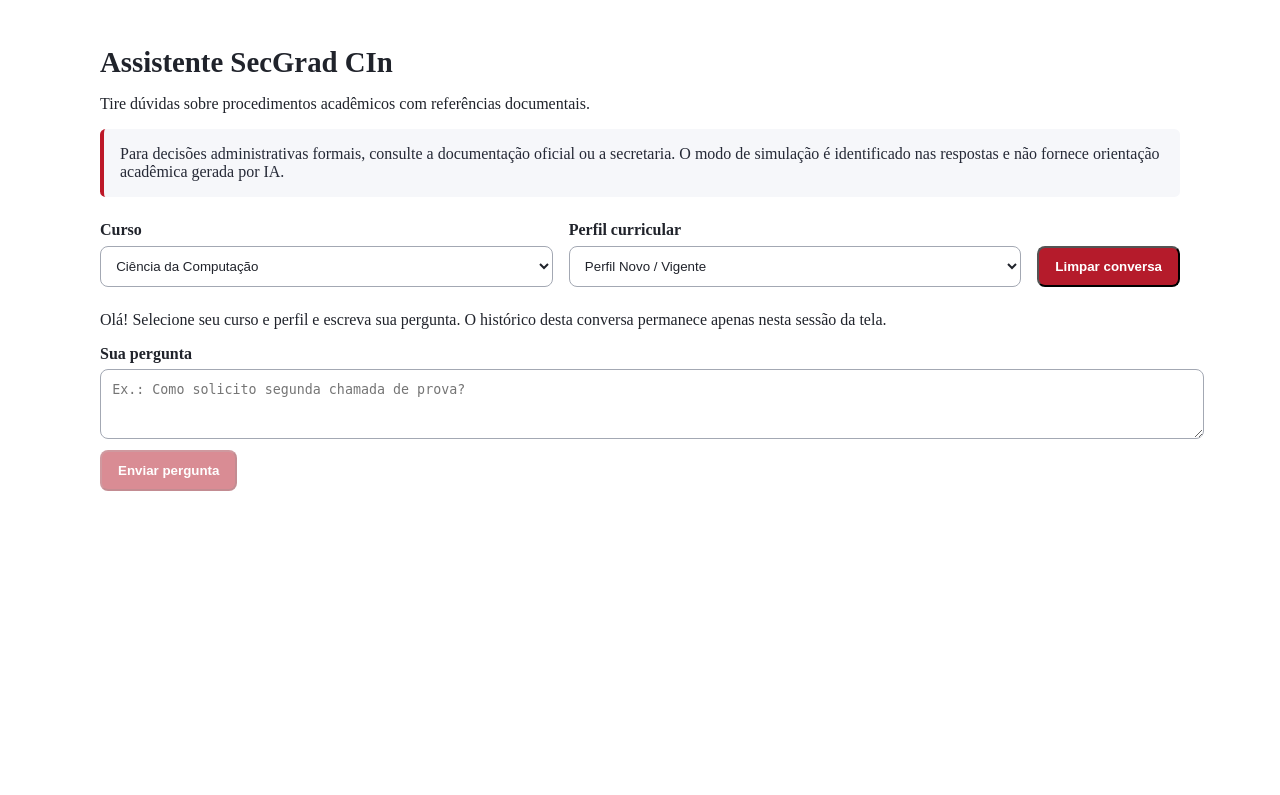
Fluxos da tela SecGrad › renderiza fallback e e-mail sem enviá-lo
Type "Como solicito segunda chamada?" into the text box labelled "Sua pergunta".
click(652, 404); type("Como solicito segunda chamada?")  # box [100,369,1204,439]
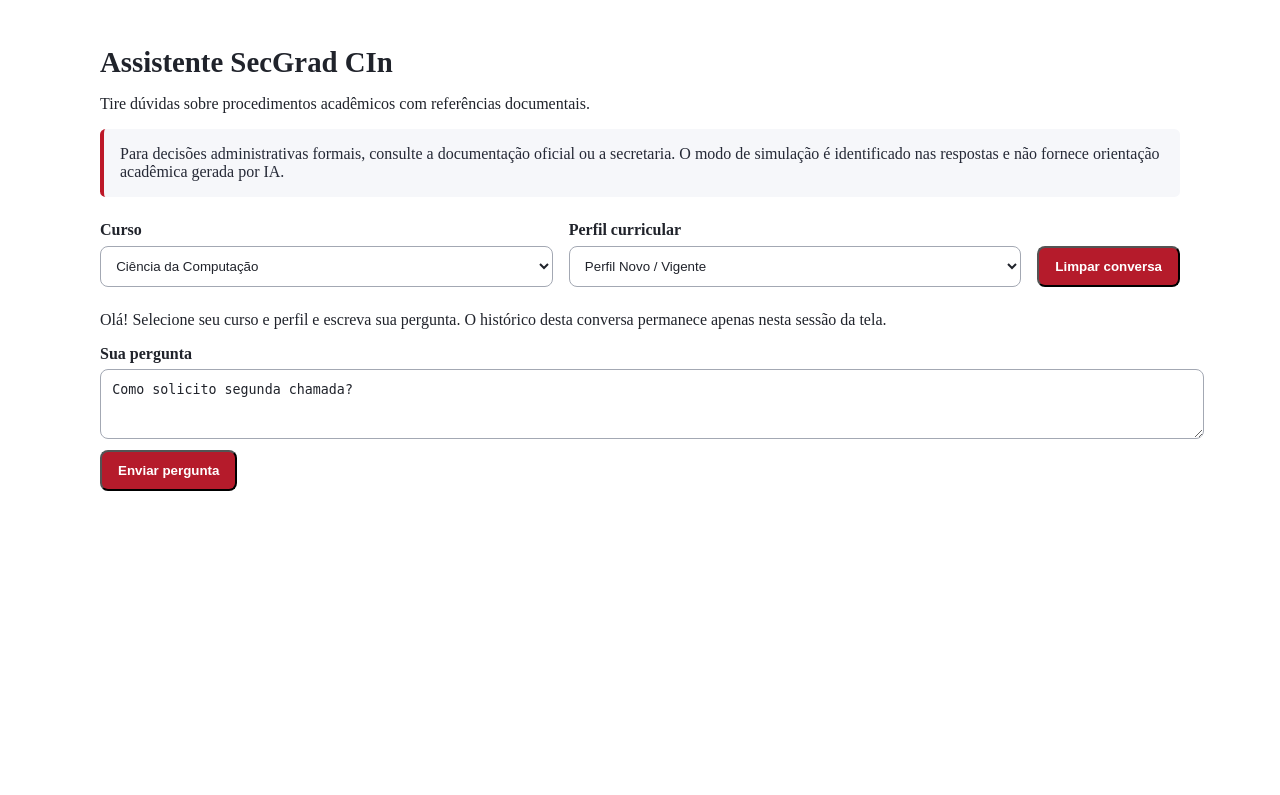
Click the button "Enviar pergunta".
click(169, 471)  # box [100,450,238,491]
(page scrolled)
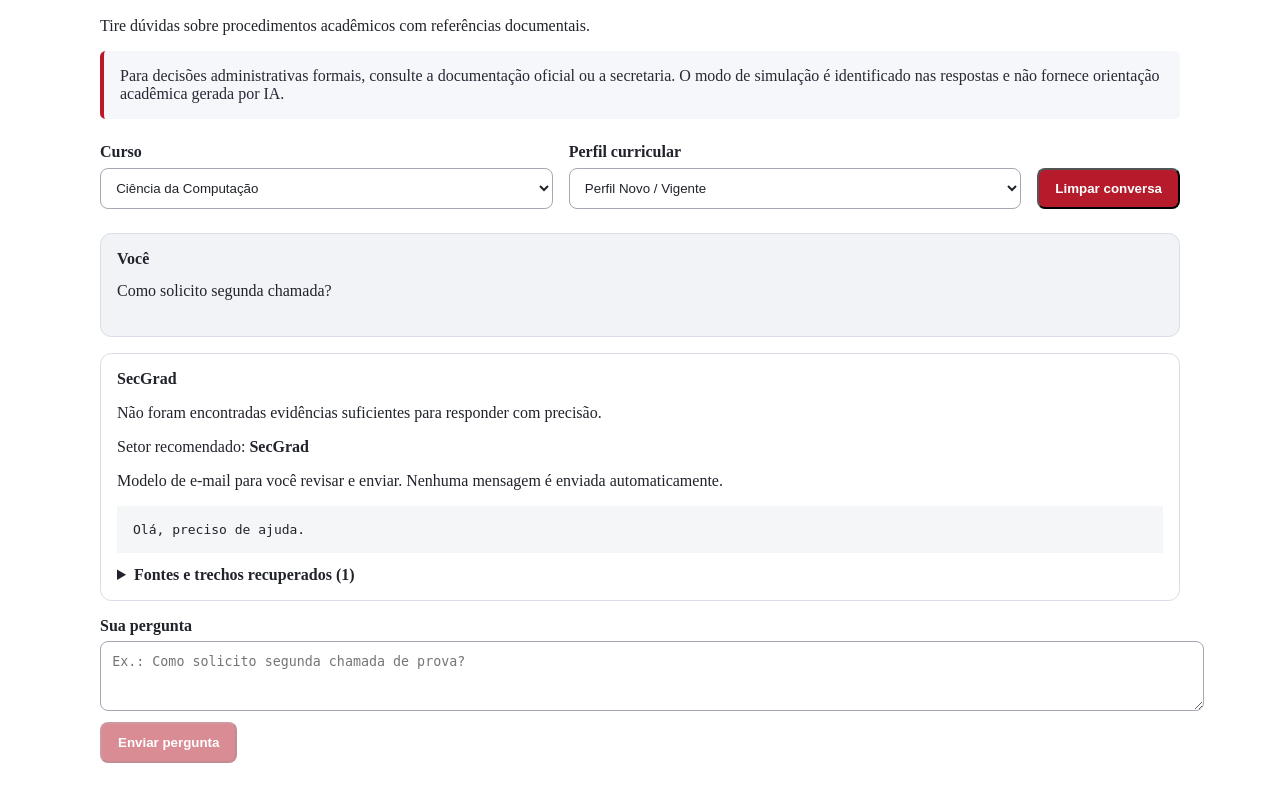
Result: the text "Olá, preciso de ajuda." is shown at [117,506,1163,553]
Result: the text "Nenhuma mensagem é enviada automaticamente" is shown at [117,472,723,489]
